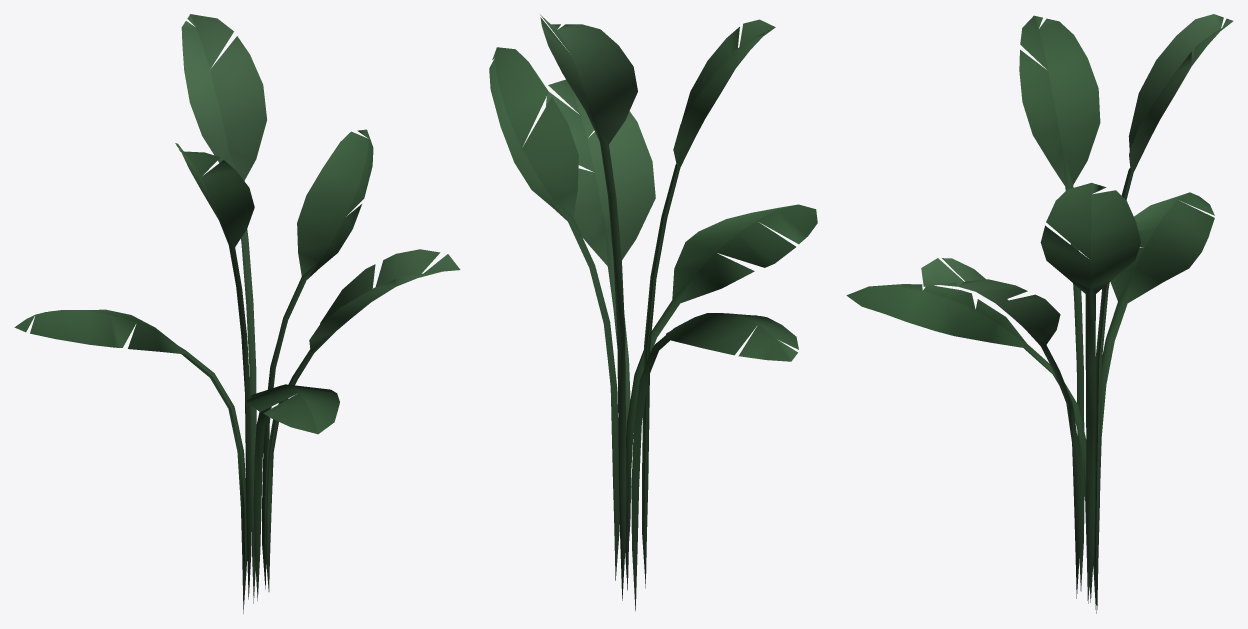
Rendered from plants-leafy-plants-broadleaf-plant_v4.fbx.
3 renders of one model, left to right at view 1: azimuth 30°, elevation 25°; view 2: azimuth 150°, elevation 25°; view 3: azimuth 270°, elevation 25°, orthographic. The views are drawn at different scales.
Visible parts, largest first — view 1: Broadleaf Plant_v4; view 2: Broadleaf Plant_v4; view 3: Broadleaf Plant_v4.
Part boxes in pixels (x1,y1,x2,y2): Broadleaf Plant_v4: (14, 14, 460, 613); Broadleaf Plant_v4: (489, 14, 817, 611); Broadleaf Plant_v4: (846, 14, 1233, 613).
Size of the model in its own units: 0.3657 by 0.6 by 0.3516.
